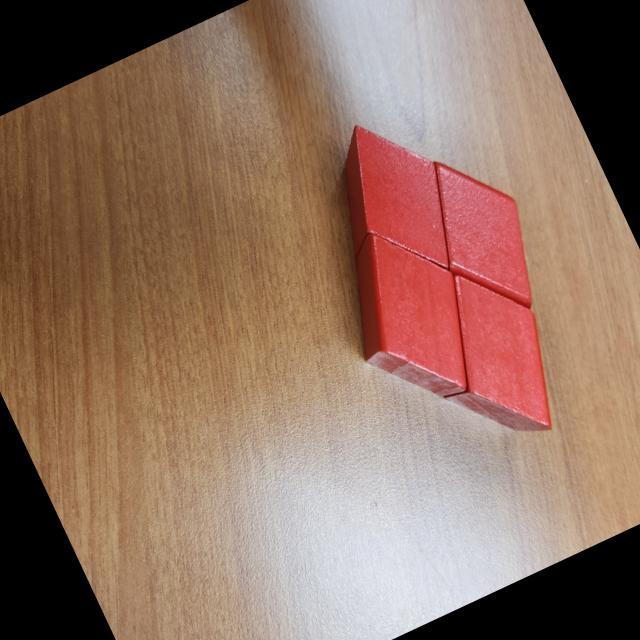red: (316, 208, 499, 424), (404, 250, 584, 462), (302, 102, 476, 306), (405, 135, 561, 333)
